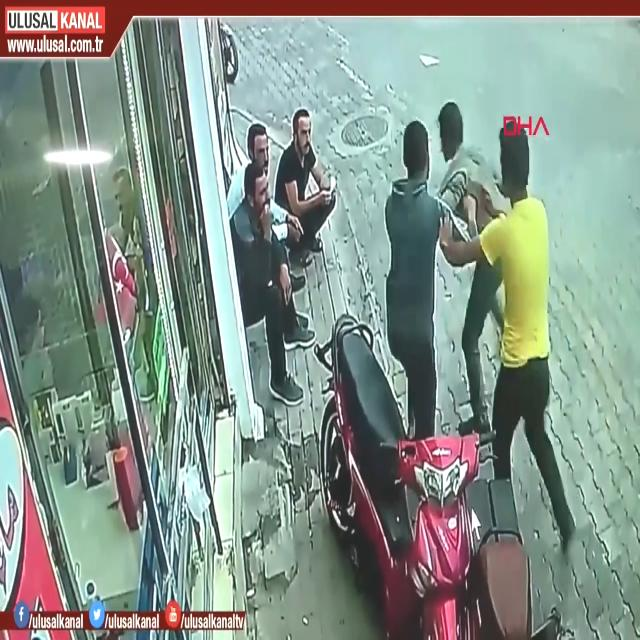fight: (367, 79, 586, 404)
